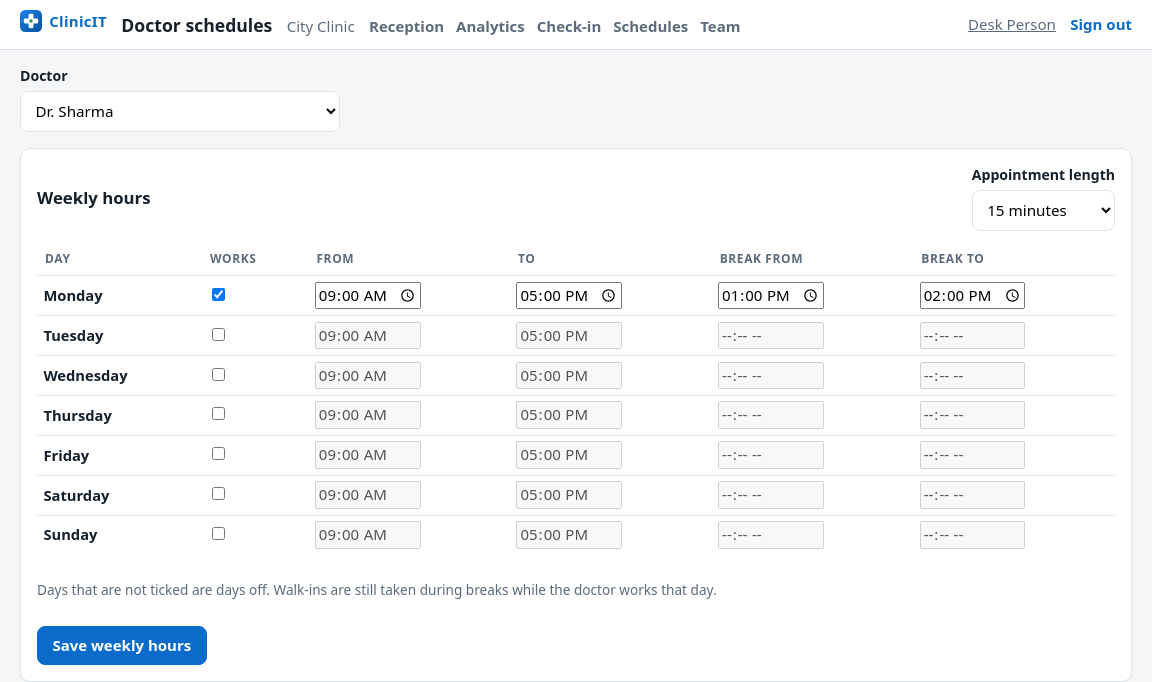
Test: ScheduleEditor › shows the saved week and leave, and saves an edited week
This screenshot has width=1152, height=682.
Check: the heading "Weekly hours" is shown, box [37,188,151,208]
Check: the checkbox named "Monday: works" is checked, box [212,288,225,301]
Click the checkbox named "Tuesday: works" at (219, 334), box [212,328,225,341]
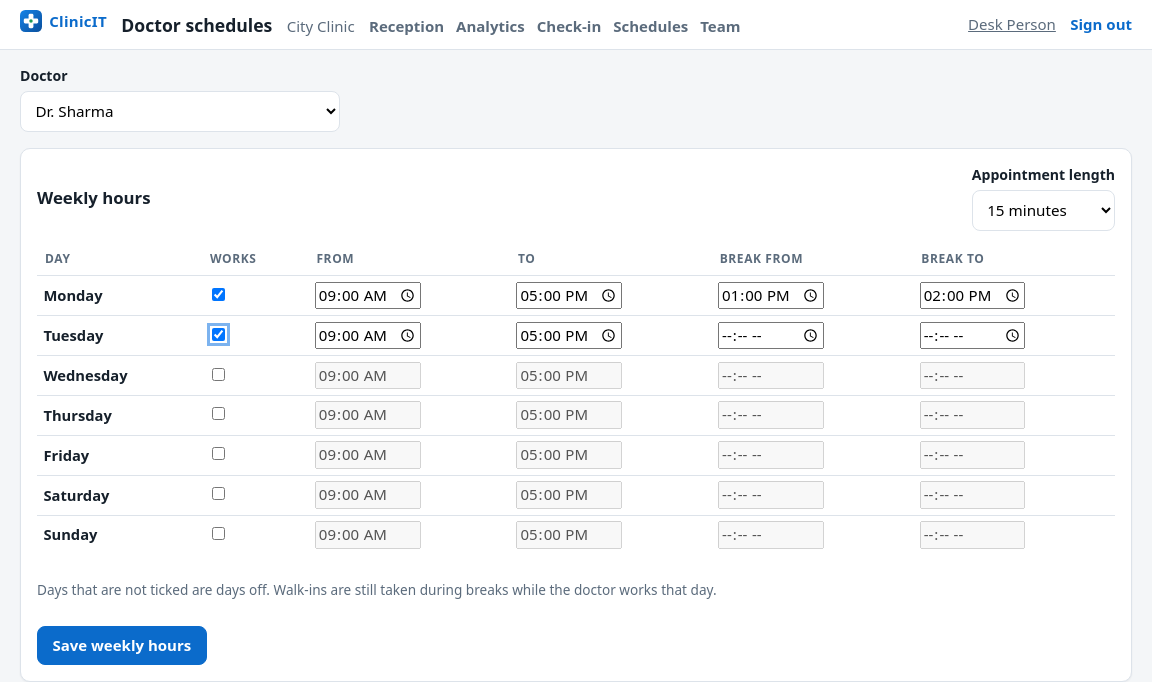
Select "20 minutes" in the dropdown labelled "Appointment length" at (1043, 210), box [972,190,1115,231]
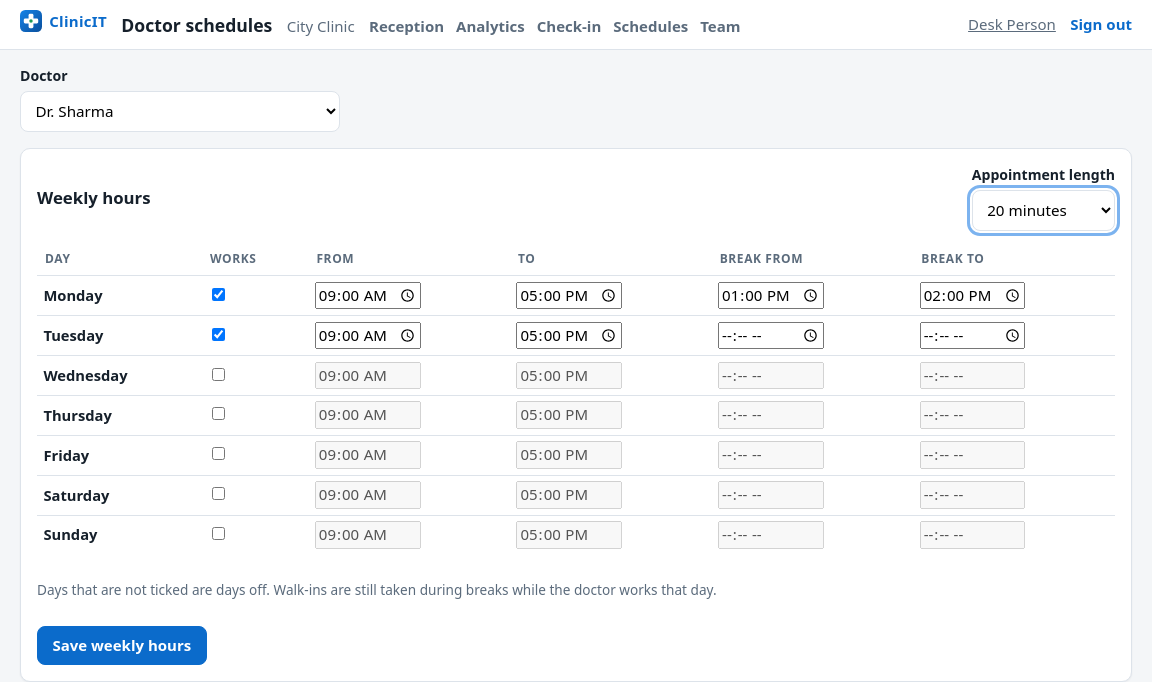
Click the button "Save weekly hours" at (122, 645), box [37,626,207,665]
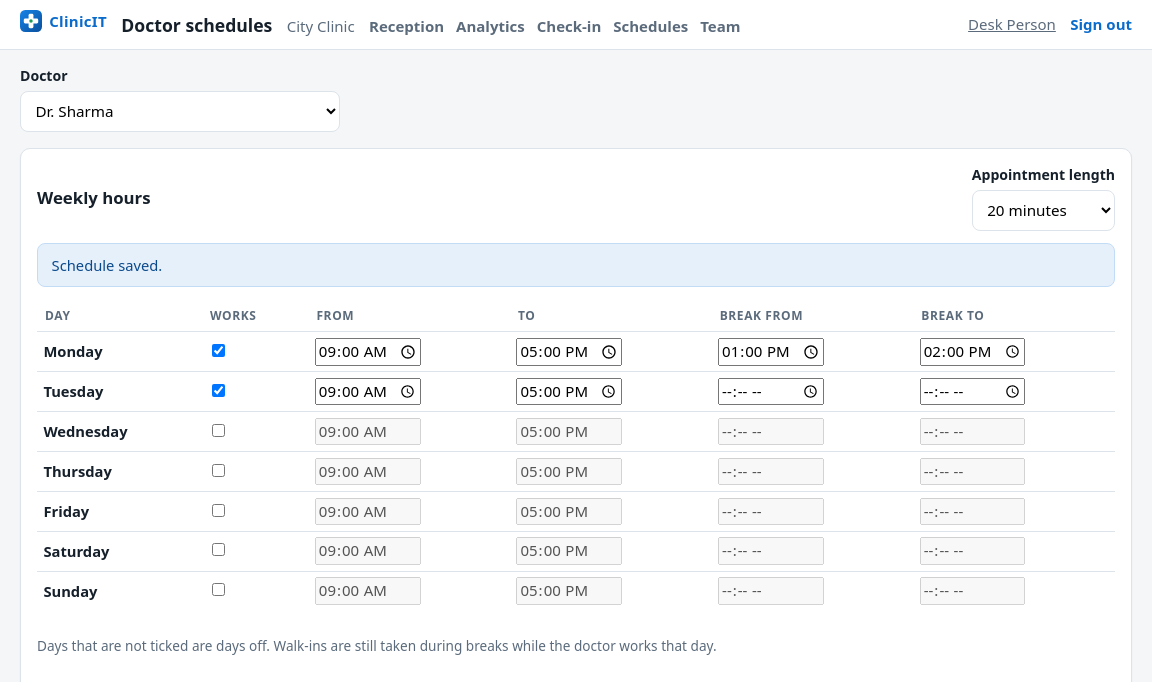
Check: the text "Schedule saved." is shown, box [37,243,1115,287]
